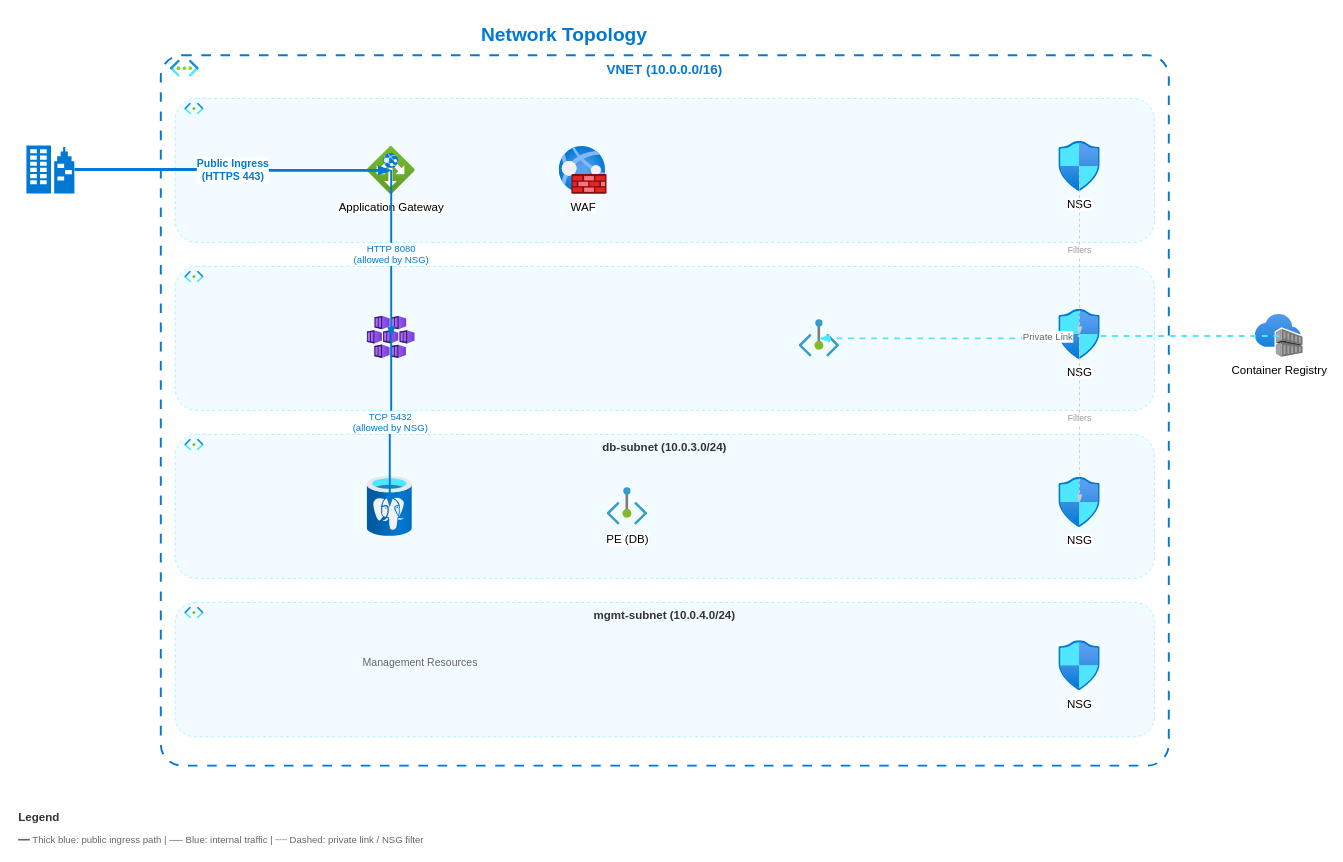
Some shapes in this 1343 by 862 pixel diagram are drawn without their labels. The box of each missing label's shape, as (x1, y1, x2, y2) in pixels:
aca-subnet (10.0.0.0/23): (174, 265, 1154, 410)
appgw-subnet (10.0.2.0/24): (174, 97, 1154, 242)
Internet: (26, 145, 74, 193)
OpenMRS Core: (367, 314, 415, 360)
PE (ACR): (799, 318, 839, 358)
PostgreSQL: (367, 475, 412, 537)
